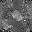people: (12, 10, 23, 22)
